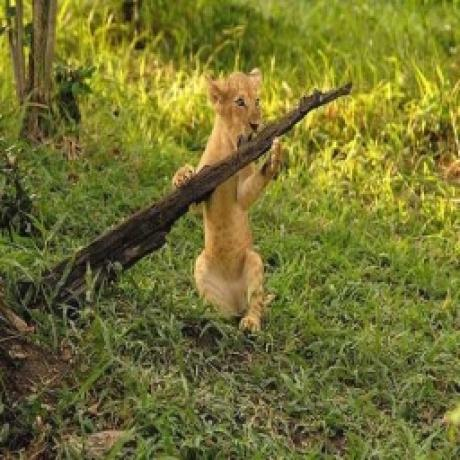Lion: (171, 60, 283, 332)
